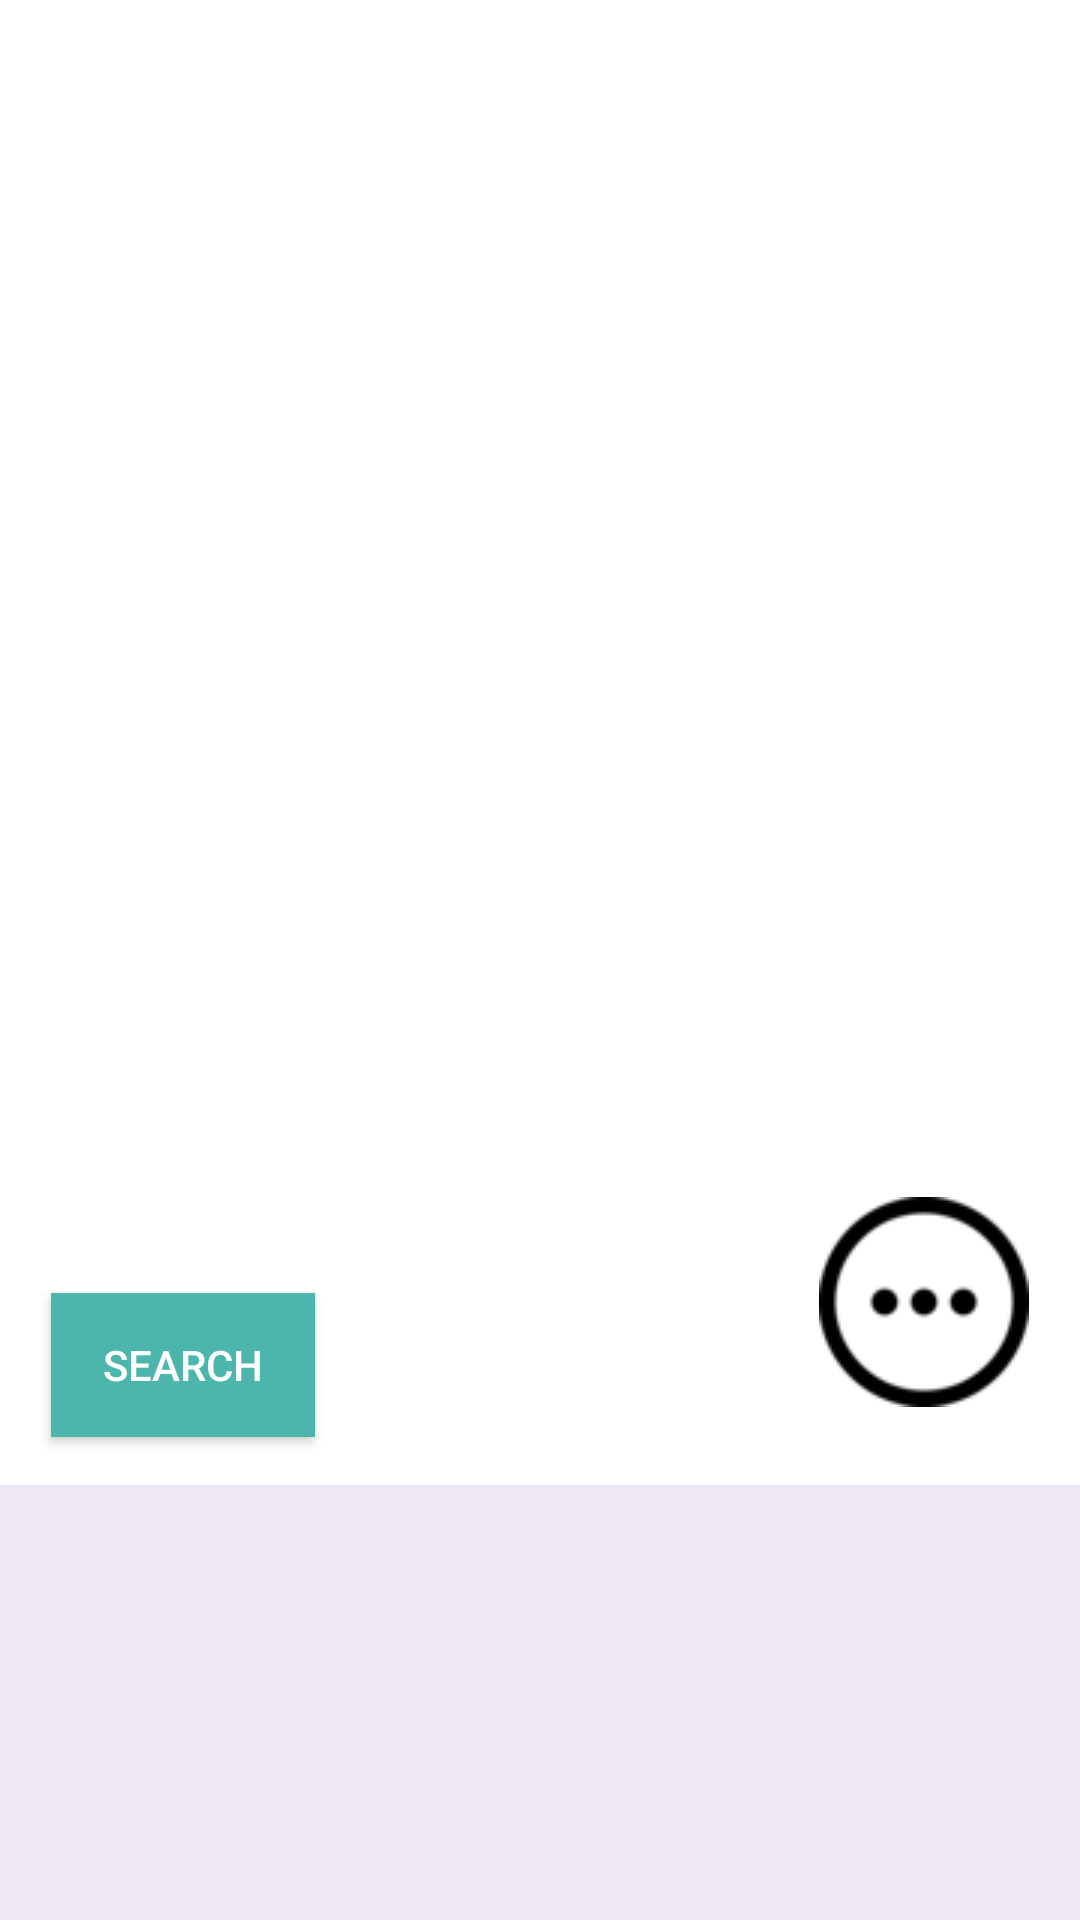

Icon bounding boxes for this 1080px×1920px phone screenshot, format (x1, y1, x2, y2):
more: (819, 1197, 1029, 1407)
